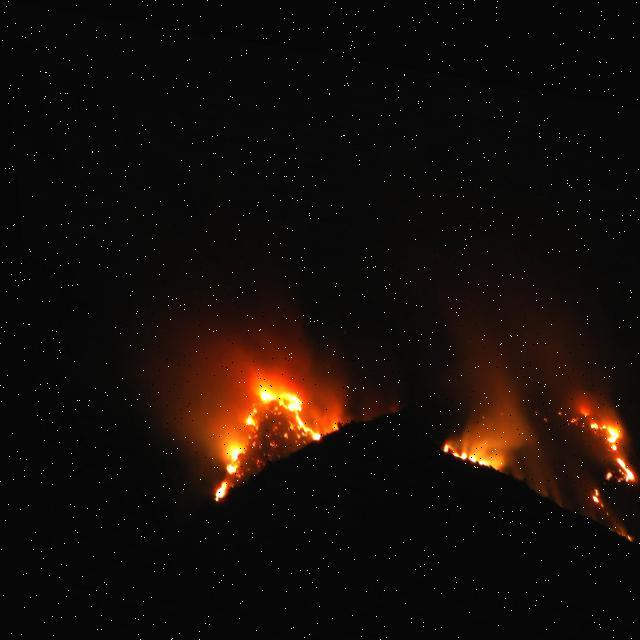Fire: (193, 362, 322, 508), (538, 358, 634, 514), (428, 418, 502, 467)
